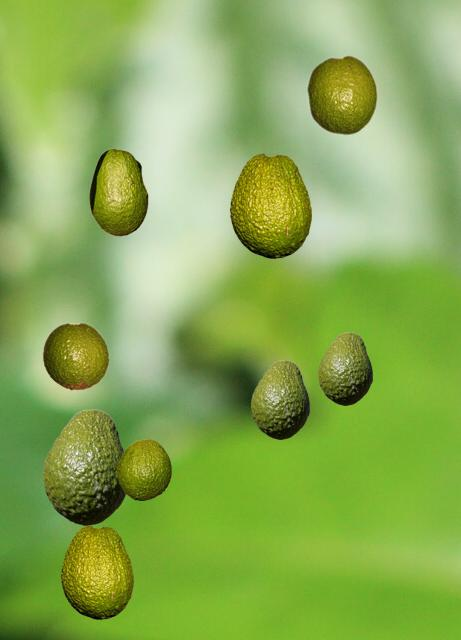avocado: (43, 409, 126, 524), (230, 153, 310, 257), (61, 525, 132, 618), (306, 54, 377, 135), (89, 148, 147, 235), (42, 322, 109, 389), (251, 360, 308, 438), (318, 332, 371, 404), (117, 439, 170, 499)
